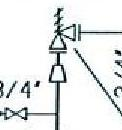psv: (46, 6, 76, 51)
